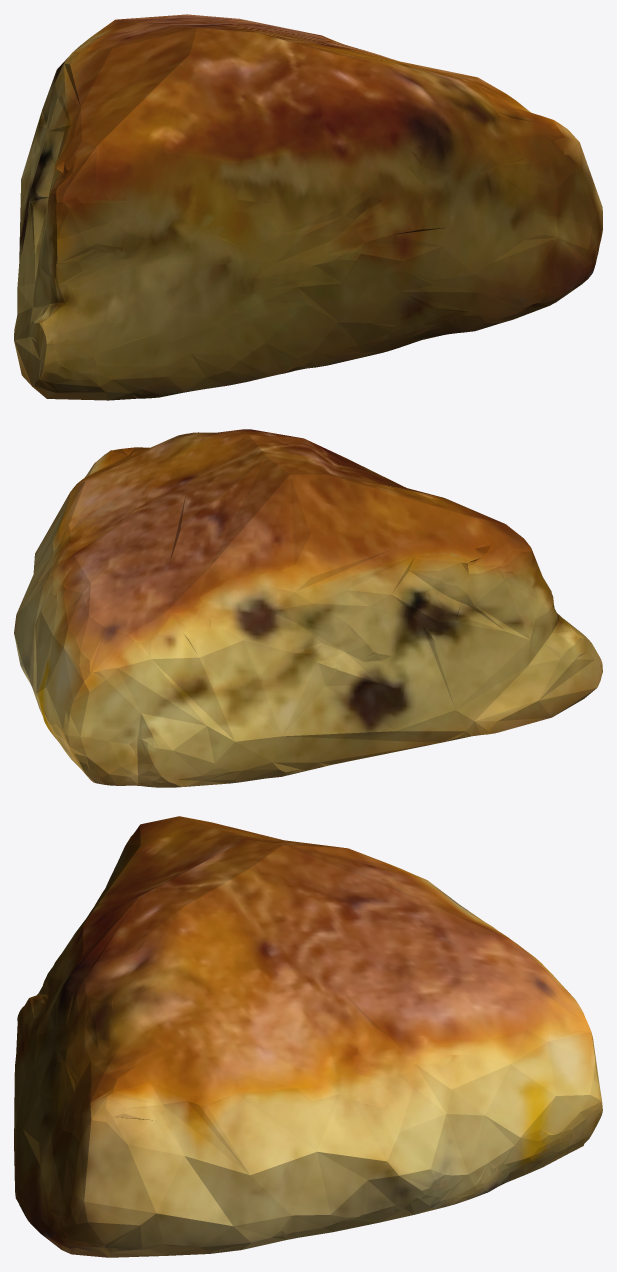
File: Scone.obj
The picture shows the model from 3 angles, top to bottom: view 1: azimuth 30°, elevation 25°; view 2: azimuth 150°, elevation 25°; view 3: azimuth 270°, elevation 25°; orthographic projection. The views are drawn at different scales.
Size of the model in its own units: 55.12 by 23.25 by 46.98.
Materials: 1 (1 with a texture image).
